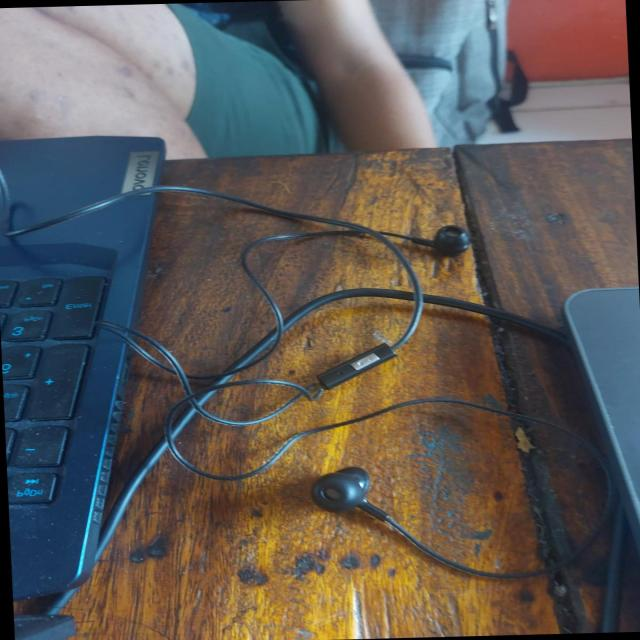earphone: (125, 138, 584, 618)
